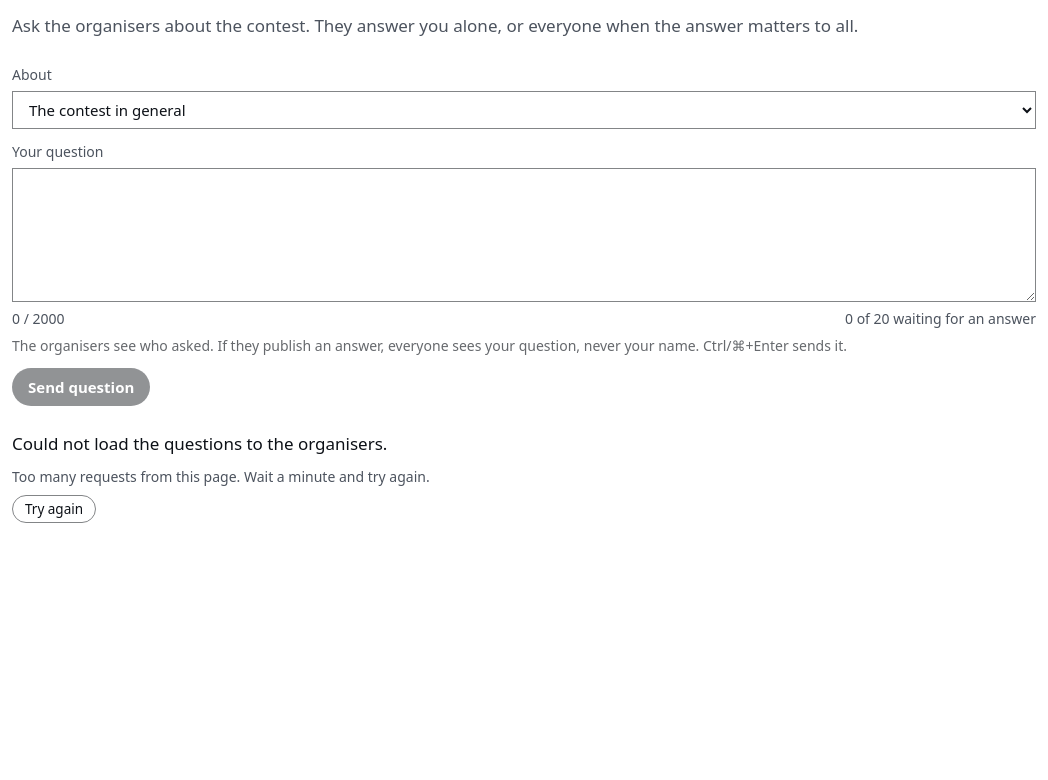
the questions to the organisers › offers a retry when the first read fails, and reads again
The width and height of the screenshot is (1048, 780).
Expected: the text "Could not load the questions to the organisers." is shown, 12,430 -> 387,458
Expected: the text "Too many requests from this page. Wait a minute and try again." is shown, 12,466 -> 430,487
Click the button "Try again" at (54, 509), box 12,495 -> 96,523
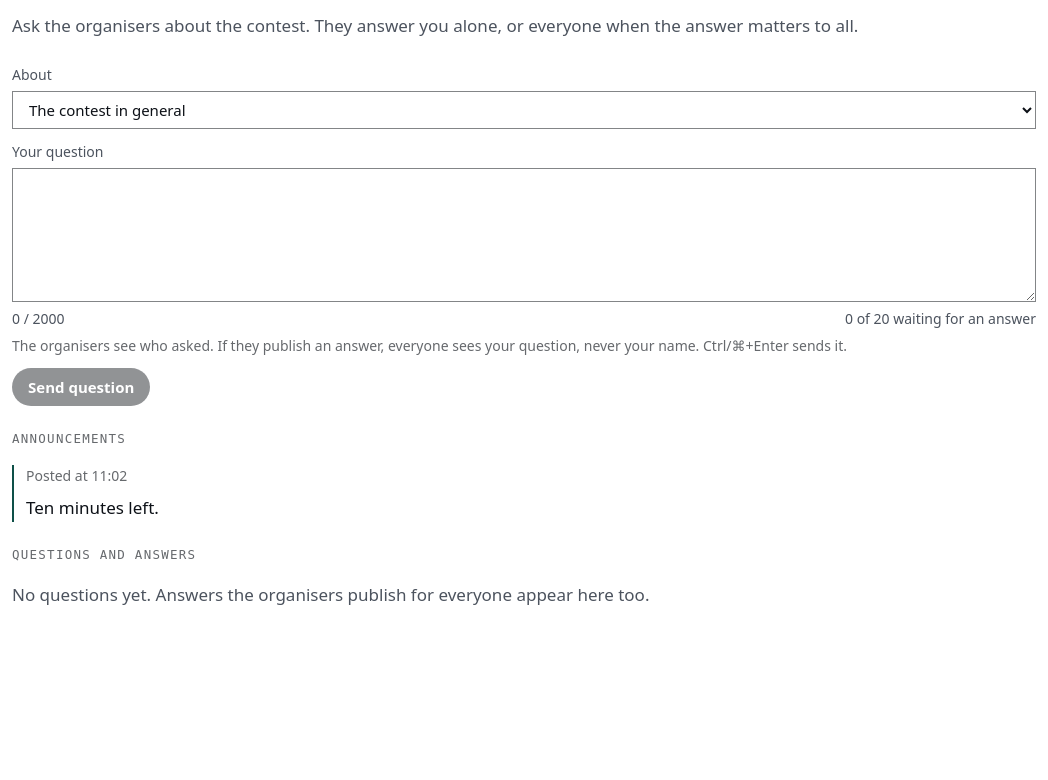
Expected: the text "Ten minutes left." is shown, 26,496 -> 159,519
